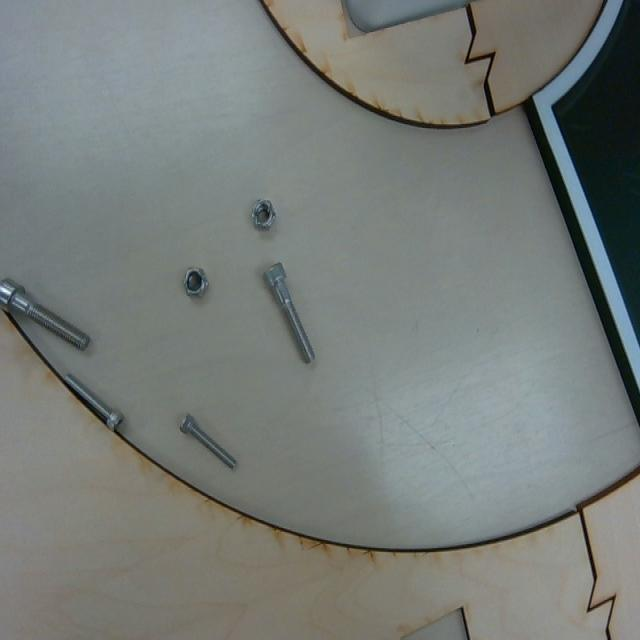Big Bolt: (0, 272, 93, 355), (260, 260, 320, 370)
Metal Nut: (180, 262, 211, 304), (249, 194, 280, 234)
Small Bolt: (177, 404, 242, 476), (64, 370, 126, 436)
